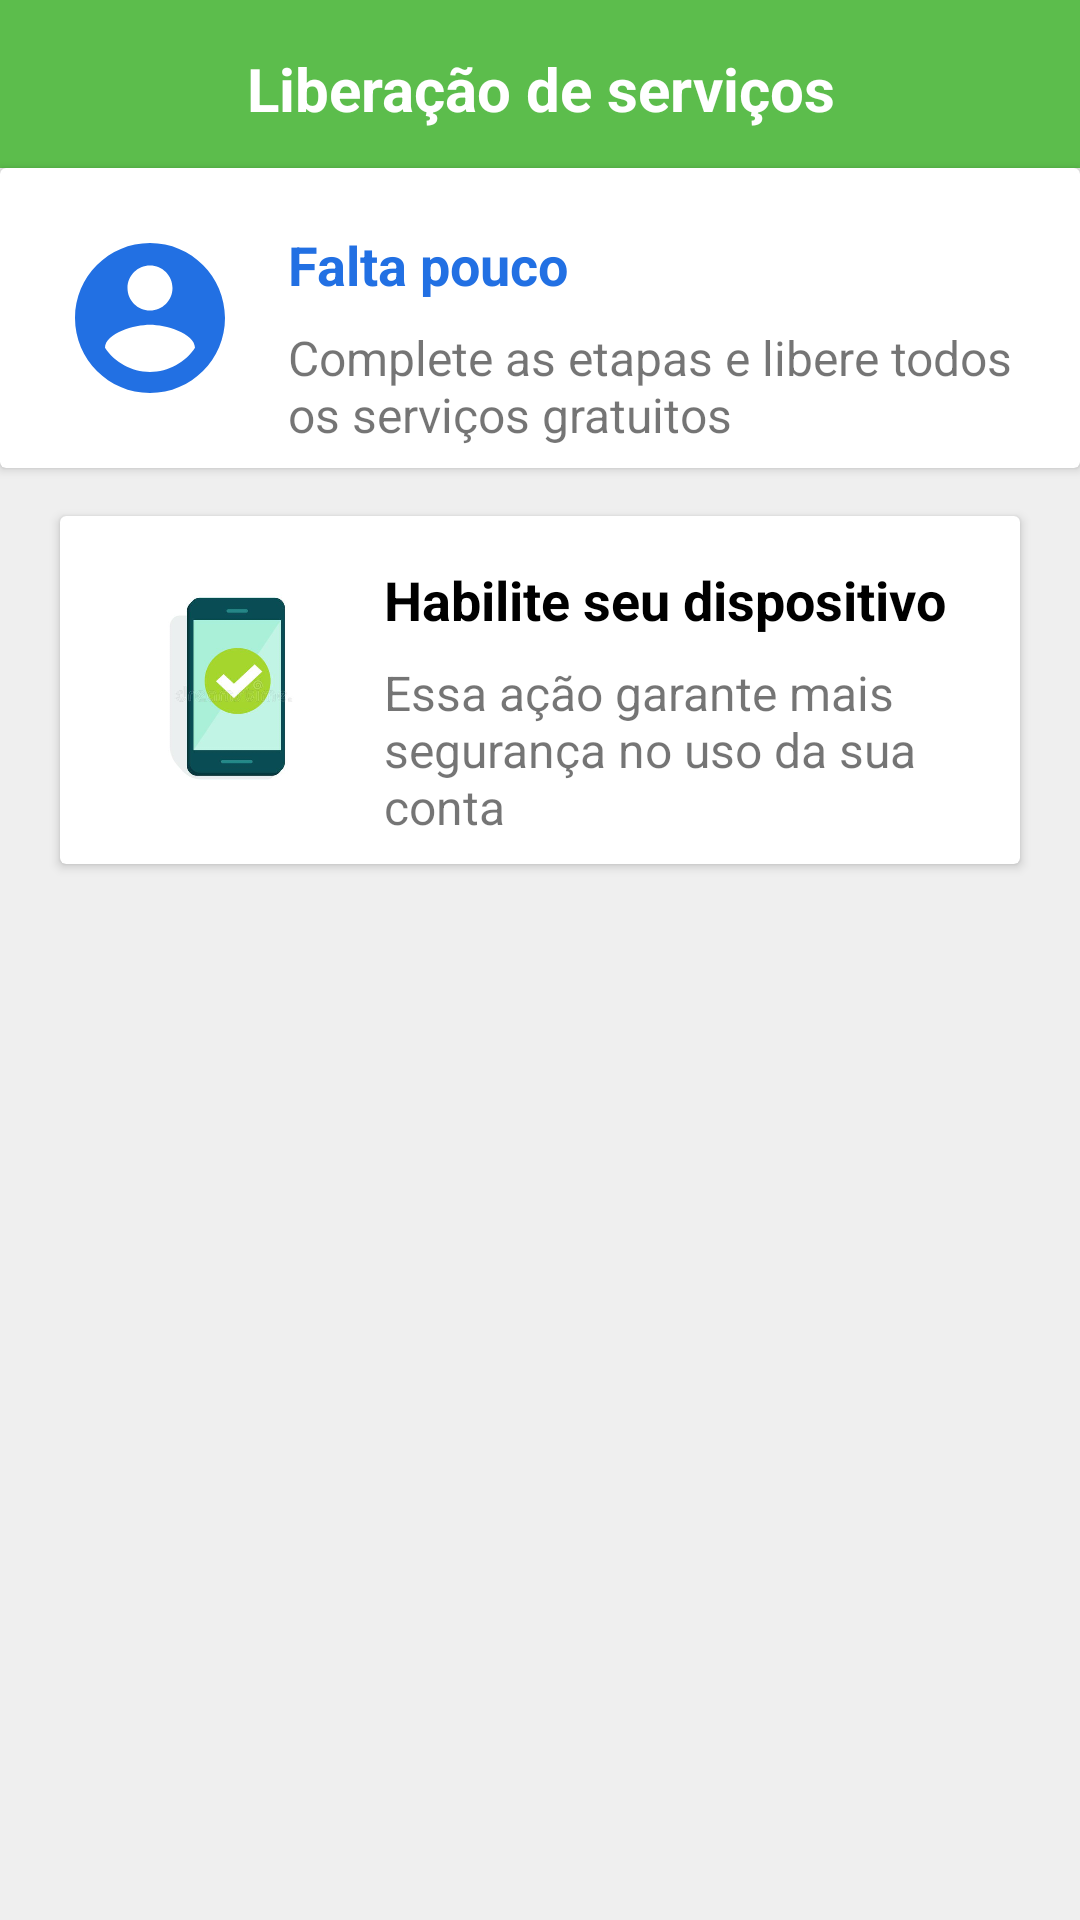

Screen size 1080×1920. Icon name, then its center in pixels as point (x, y):
account: point (150, 318)
smartphone account: point (231, 687)
